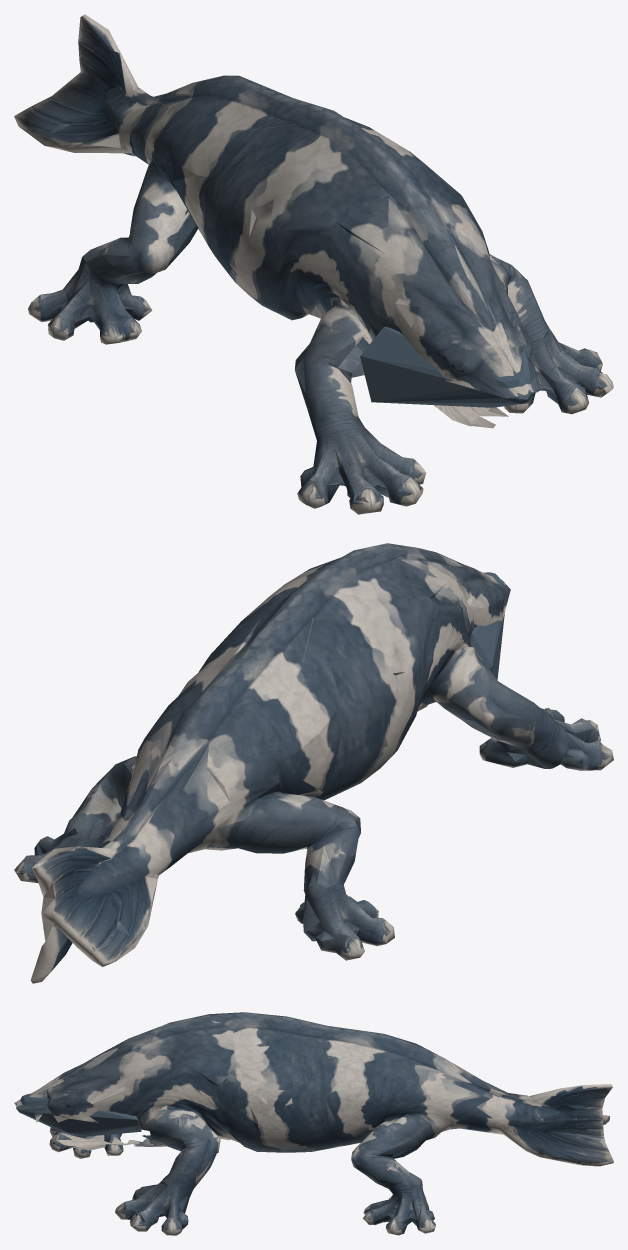
Rendered from eholovec-telo.glb.
The picture shows the model from 3 angles, top to bottom: view 1: azimuth 30°, elevation 25°; view 2: azimuth 150°, elevation 25°; view 3: azimuth 270°, elevation 25°; orthographic projection. The views are drawn at different scales.
Visible parts, largest first — view 1: eholovec-telo; view 2: eholovec-telo; view 3: eholovec-telo.
Part boxes in pixels (bbox=[...]): eholovec-telo: bbox=[14, 14, 613, 514]; eholovec-telo: bbox=[14, 543, 613, 983]; eholovec-telo: bbox=[14, 1012, 613, 1235].
Bounding box in the file's own units: 1.4 × 0.9032 × 2.96.
Materials: 1 (1 with a texture image).
